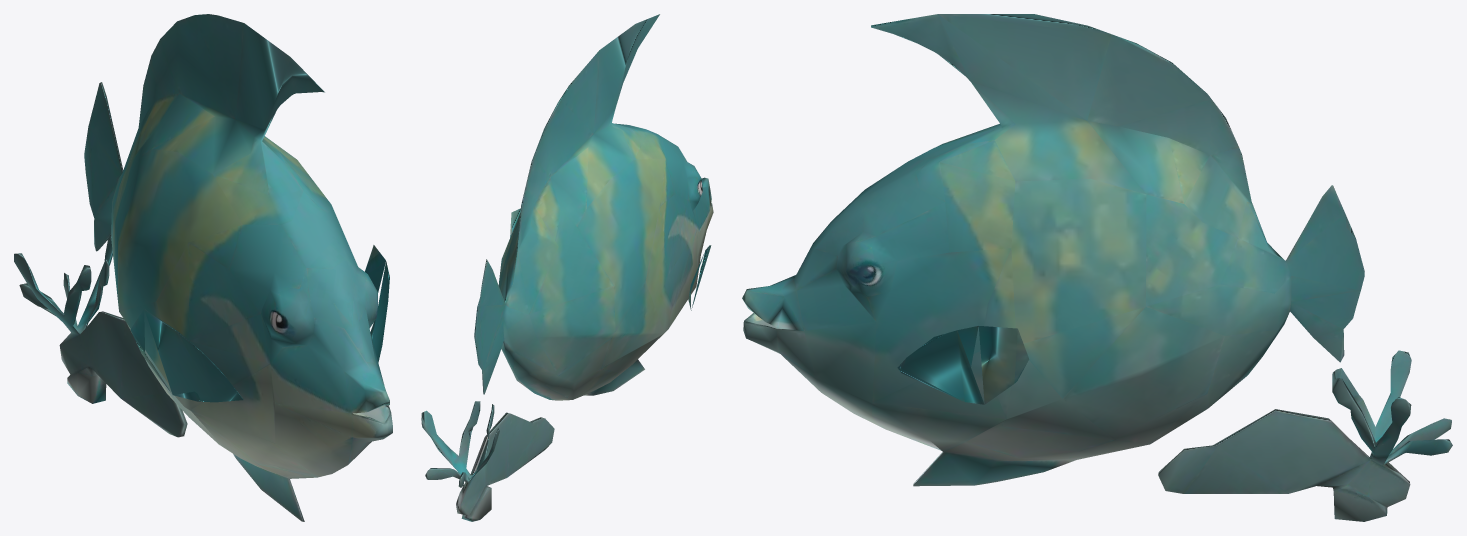
3 renders of one model, left to right at view 1: azimuth 30°, elevation 25°; view 2: azimuth 150°, elevation 25°; view 3: azimuth 270°, elevation 25°, orthographic. The views are drawn at different scales.
Bounding box in the file's own units: 0.7651 × 1.49 × 1.9.
Materials: 1 (1 with a texture image).
